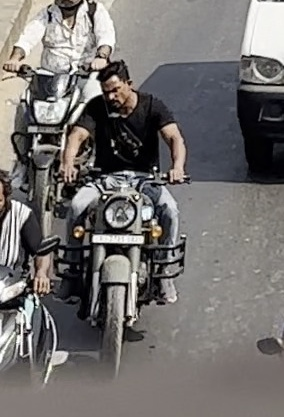BikeWithRider: (45, 53, 196, 386), (0, 0, 125, 246)
NoHelmet: (91, 55, 142, 115)
